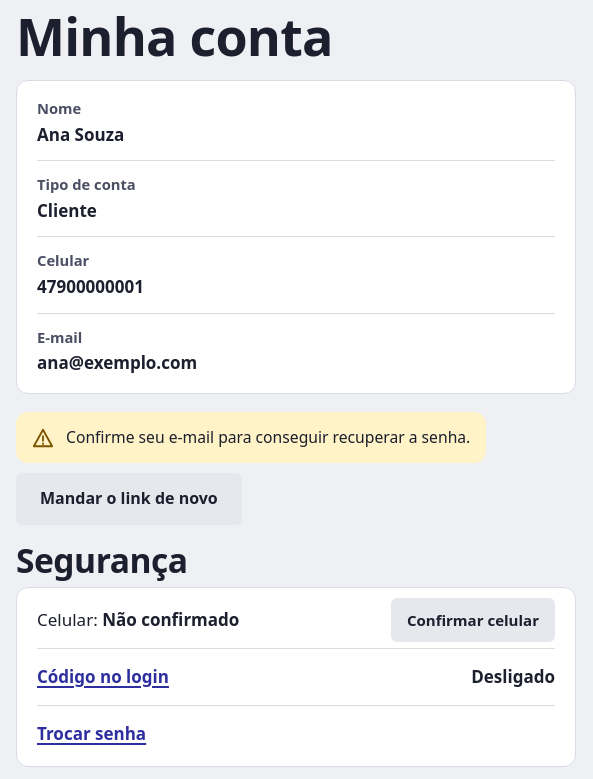
Scenario: /conta (Minha conta) › 409 email-ja-confirmado: avisa e atualiza a conta (a nota some)
Click the button "Mandar o link de novo".
click(129, 499)  # box [16,473,242,525]
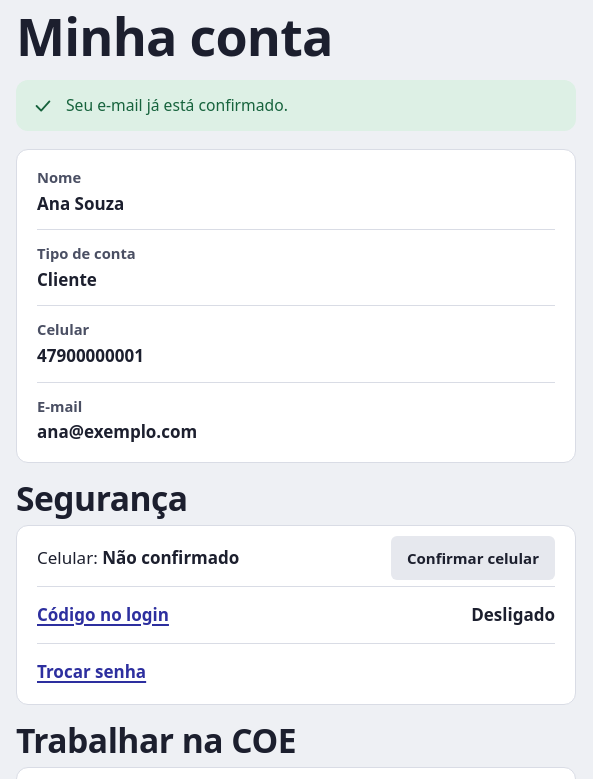
Expected: the text "Seu e-mail já está confirmado." is shown, [66,94,288,117]
Expected: the text "Confirme seu e-mail para conseguir recuperar a senha." is gone
